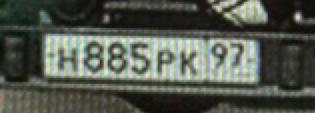license-plateSW: (43, 32, 261, 85)
